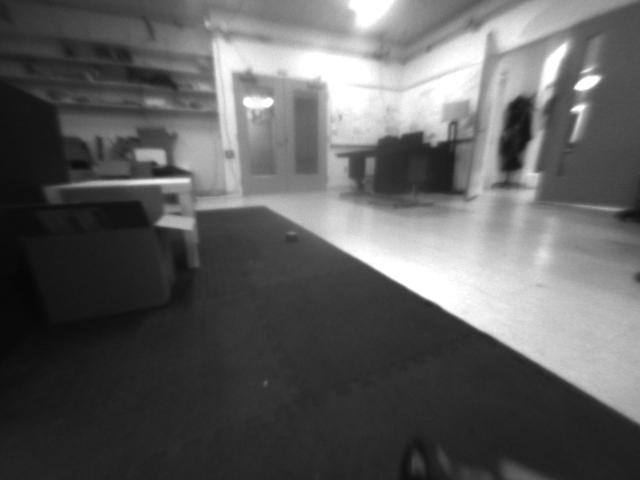dogtoy: (280, 224, 302, 249)
